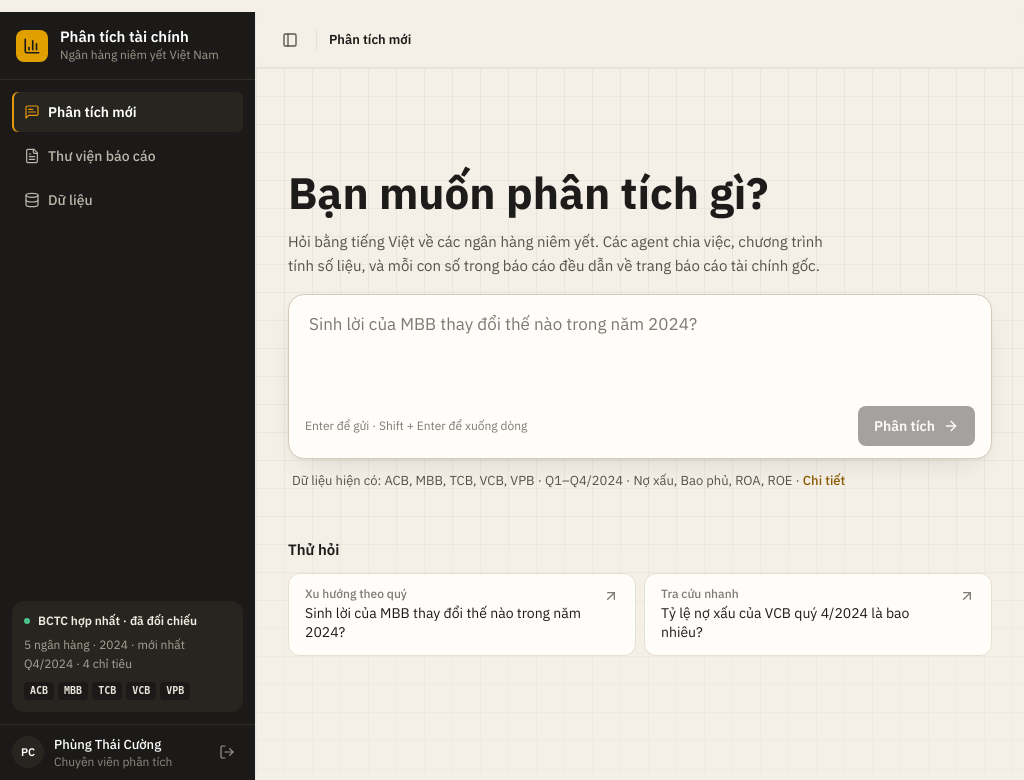
Test: ER-6 AskPage (Lean Ask Screen) › handles legacy RUN_BLOCKED by returning to ask screen with error banner and preserved query
In the text box named "Câu hỏi phân tích": (640, 349) [289,295,991,402], type "Tăng trưởng tín dụng quý 2/2020"
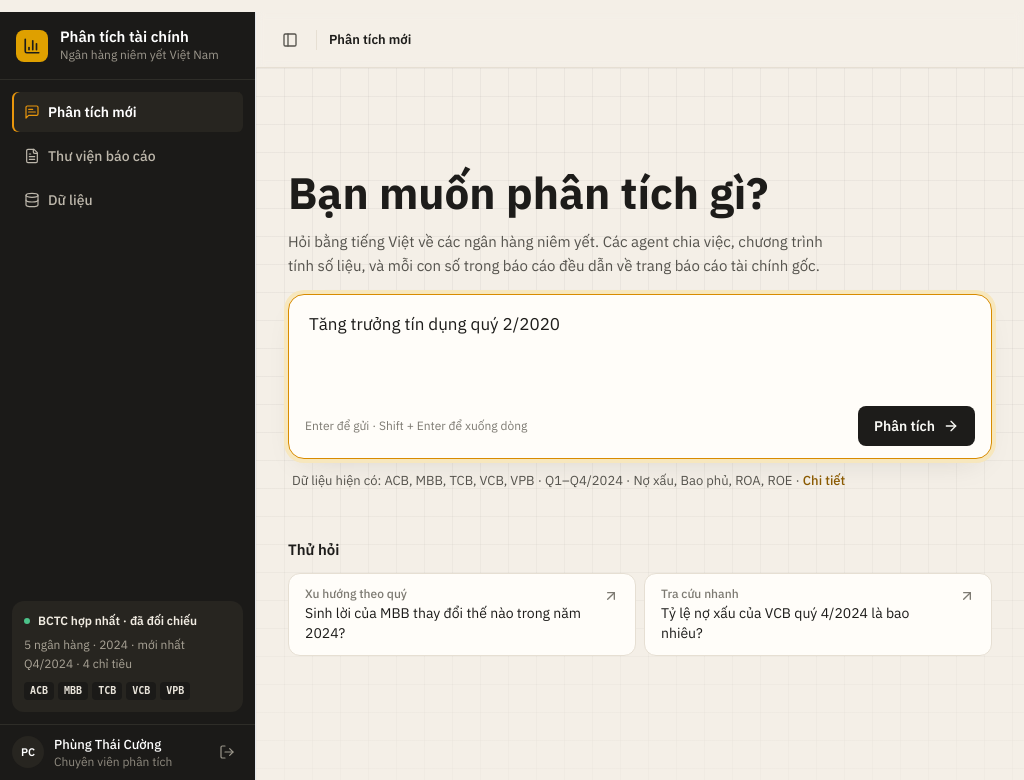
Click the button "Phân tích": (916, 426) [858,406,975,446]
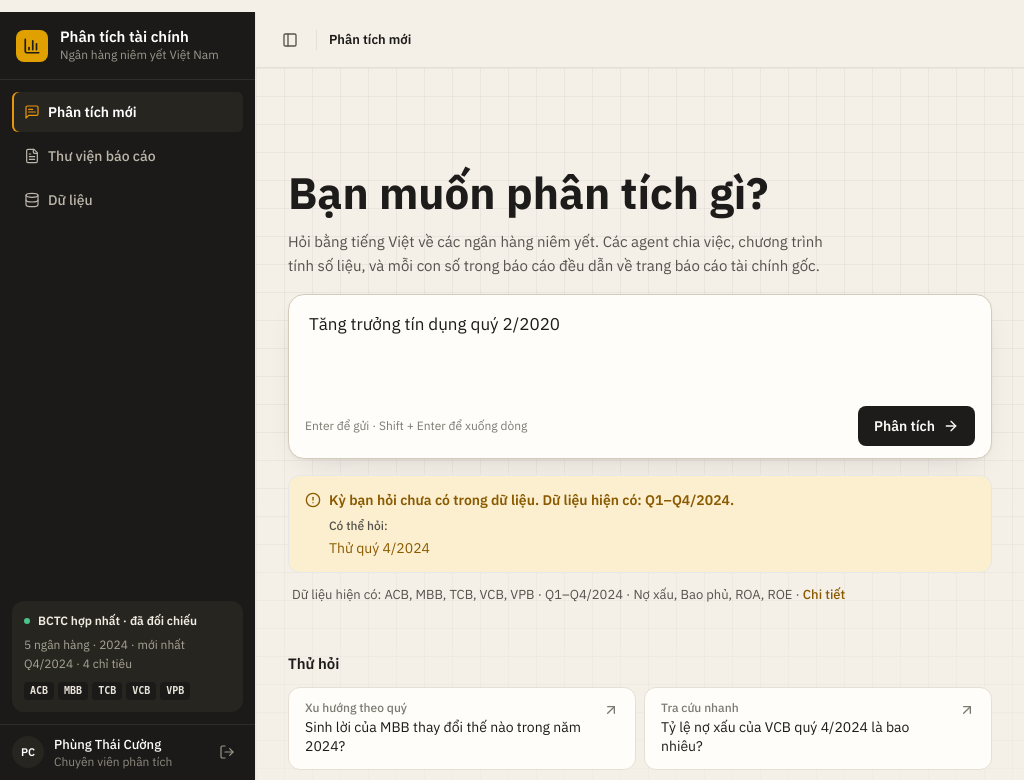
Check: the text box named "Câu hỏi phân tích" holds "Tăng trưởng tín dụng quý 2/2020", box [289,295,991,402]
Check: the text "Kỳ bạn hỏi chưa có trong dữ liệu. Dữ liệu hiện có: Q1–Q4/2024." is shown, box [329,490,734,510]
Check: the button "Thử quý 4/2024" is shown, box [329,538,430,558]
